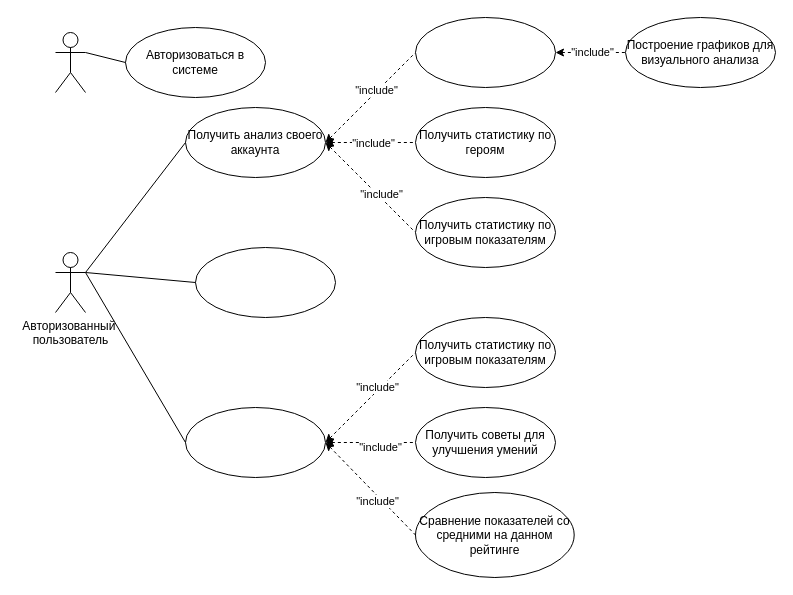
The diagram is 793 pixels wide and 595 high, and some of its shapes have lost their labels. Here are the shapes that lost their labels. From the top down, the centre of each, then its label:
At [70,62]: "Неавторизованный пользователь".
At [485,52]: "Анализ данных на основании средних показателей других игроков".
At [265,282]: "Получить список последних матчей".
At [255,442]: "Получить анализ матча".
